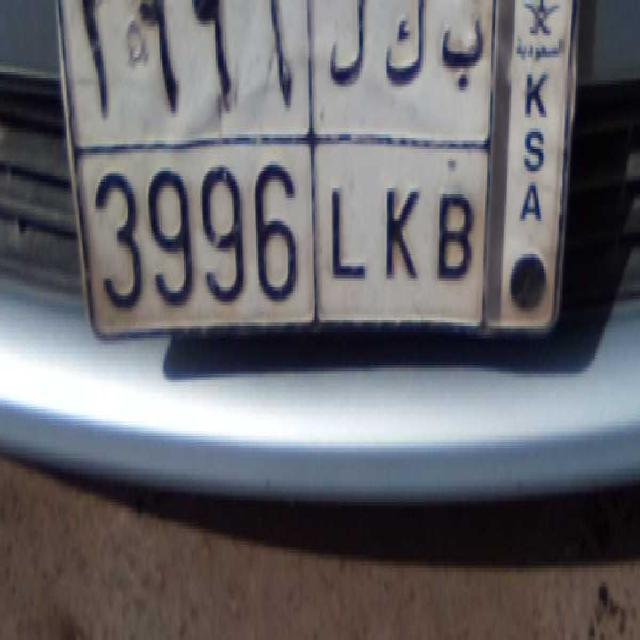license_plate: (87, 145, 484, 348)
